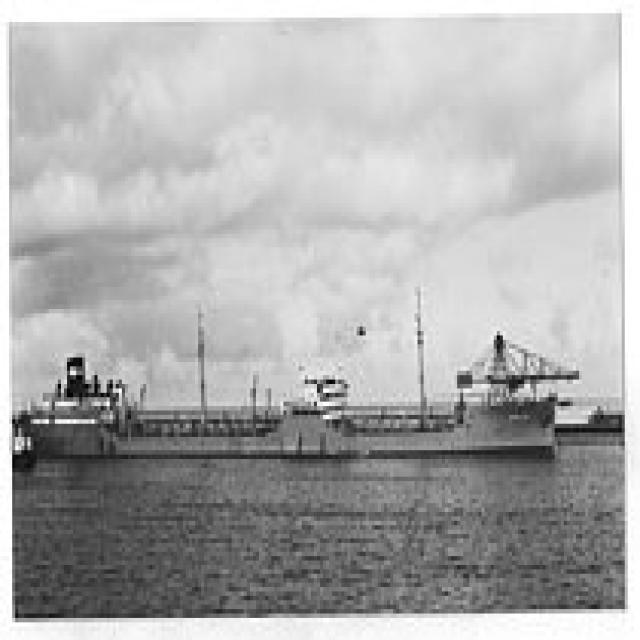Tanker: (21, 322, 573, 455)
